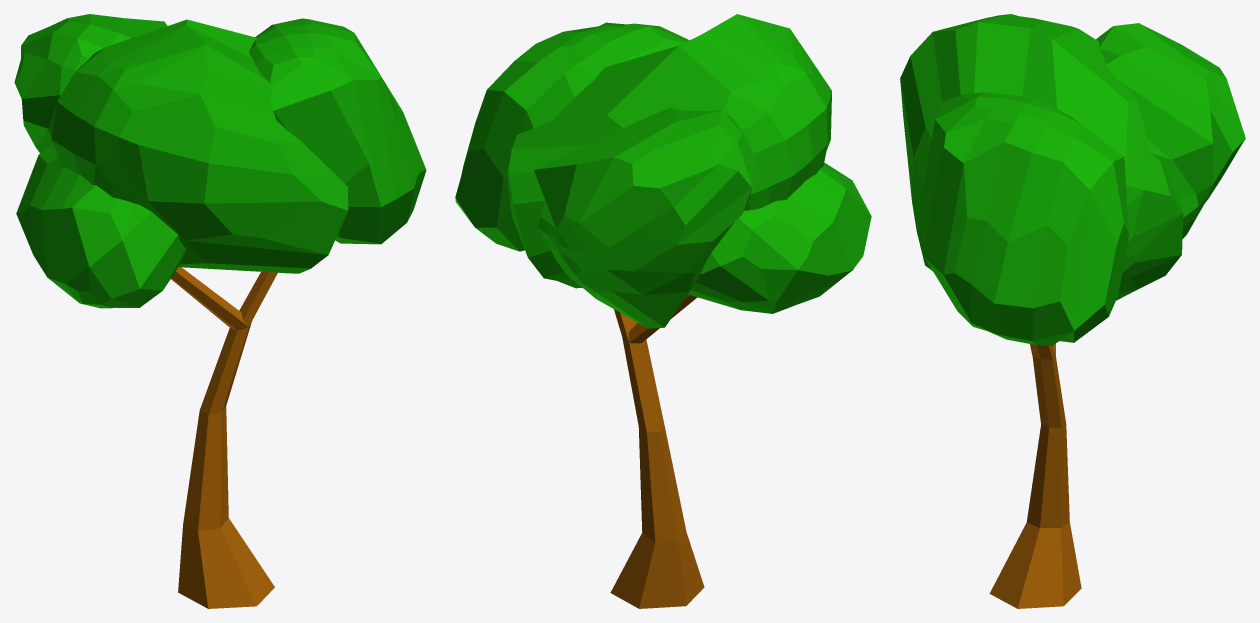
File: tree_01.fbx
3 renders of one model, left to right at view 1: azimuth 30°, elevation 25°; view 2: azimuth 150°, elevation 25°; view 3: azimuth 270°, elevation 25°, orthographic. The views are drawn at different scales.
Parts seen in each view (by area): view 1: tree 1; view 2: tree 1; view 3: tree 1.
Boxes of the visible parts, bbox=[...] form: tree 1: bbox=[14, 14, 426, 608]; tree 1: bbox=[455, 14, 871, 608]; tree 1: bbox=[900, 14, 1245, 608].
Size of the model in its own units: 206 by 305 by 175.
